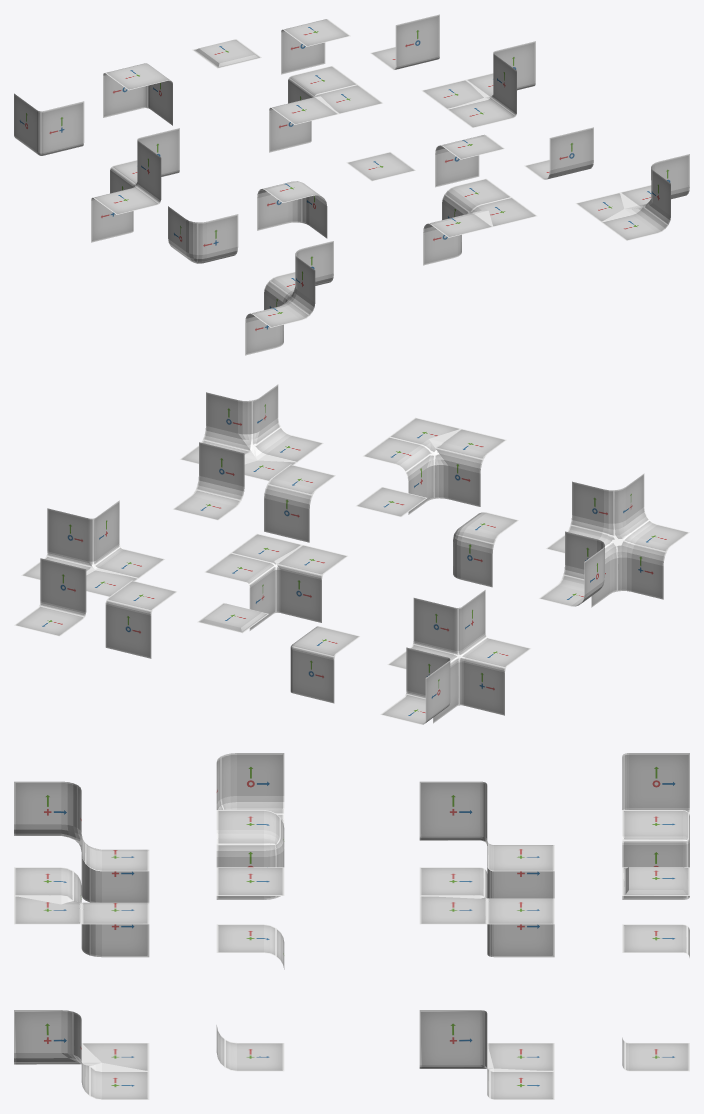
File: Blocks.fbx
3 renders of one model, top to bottom at view 1: azimuth 30°, elevation 25°; view 2: azimuth 150°, elevation 25°; view 3: azimuth 270°, elevation 25°, orthographic. The views are drawn at different scales.
Visible parts, largest first — view 1: Cross 1x1x1 M, SideToEdgePos 1x1x1 M, Cross 1x1x1, SideToEdgeNeg 1x1x1 M, SideToEdgeNeg 1x1x1, SideToEdgePos 1x1x1, Corner Neg 1x1x1 M, Corner 1x1x1 M, Corner 1x1x1, Corner Neg 1x1x1, Edge 1x1x1 M, Edge Neg 1x1x1 M (+4 smaller); view 2: Cross 1x1x1, Cross 1x1x1 M, SideToEdgeNeg 1x1x1, SideToEdgeNeg 1x1x1 M, SideToEdgePos 1x1x1, SideToEdgePos 1x1x1 M, Edge 1x1x1 M, Edge Neg 1x1x1 M, Edge Neg 1x1x1, Edge 1x1x1, Corner Neg 1x1x1 M, Corner 1x1x1 M (+4 smaller); view 3: SideToEdgeNeg 1x1x1 M, SideToEdgePos 1x1x1 M, Cross 1x1x1 M, SideToEdgeNeg 1x1x1, Cross 1x1x1, SideToEdgePos 1x1x1, Corner 1x1x1, Corner 1x1x1 M, Corner Neg 1x1x1, Corner Neg 1x1x1 M, Edge 1x1x1, Edge Neg 1x1x1 (+4 smaller).
Boxes of the visible parts, x1=… form: Cross 1x1x1 M: x1=91, y1=128, x2=179, y2=242; SideToEdgePos 1x1x1 M: x1=421, y1=41, x2=535, y2=127; Cross 1x1x1: x1=245, y1=241, x2=333, y2=355; SideToEdgeNeg 1x1x1 M: x1=269, y1=66, x2=382, y2=152; SideToEdgeNeg 1x1x1: x1=423, y1=178, x2=537, y2=265; SideToEdgePos 1x1x1: x1=575, y1=154, x2=689, y2=240; Corner Neg 1x1x1 M: x1=14, y1=93, x2=84, y2=155; Corner 1x1x1 M: x1=103, y1=63, x2=172, y2=125; Corner 1x1x1: x1=257, y1=181, x2=327, y2=238; Corner Neg 1x1x1: x1=168, y1=206, x2=238, y2=263; Edge 1x1x1 M: x1=281, y1=19, x2=350, y2=74; Edge Neg 1x1x1 M: x1=370, y1=14, x2=439, y2=69; Cross 1x1x1: x1=546, y1=473, x2=689, y2=607; Cross 1x1x1 M: x1=387, y1=590, x2=530, y2=723; SideToEdgeNeg 1x1x1: x1=363, y1=417, x2=506, y2=514; SideToEdgeNeg 1x1x1 M: x1=204, y1=533, x2=347, y2=630; SideToEdgePos 1x1x1: x1=180, y1=384, x2=323, y2=481; SideToEdgePos 1x1x1 M: x1=21, y1=500, x2=164, y2=596; Edge 1x1x1 M: x1=105, y1=580, x2=176, y2=658; Edge Neg 1x1x1 M: x1=14, y1=558, x2=86, y2=636; Edge Neg 1x1x1: x1=173, y1=442, x2=244, y2=520; Edge 1x1x1: x1=264, y1=464, x2=335, y2=542; Corner Neg 1x1x1 M: x1=380, y1=647, x2=450, y2=724; Corner 1x1x1 M: x1=290, y1=626, x2=359, y2=703; SideToEdgeNeg 1x1x1 M: x1=419, y1=867, x2=554, y2=957; SideToEdgePos 1x1x1 M: x1=419, y1=1010, x2=554, y2=1099; Cross 1x1x1 M: x1=419, y1=781, x2=554, y2=898; SideToEdgeNeg 1x1x1: x1=14, y1=867, x2=149, y2=957; Cross 1x1x1: x1=14, y1=781, x2=149, y2=902; SideToEdgePos 1x1x1: x1=14, y1=1010, x2=149, y2=1099; Corner 1x1x1: x1=216, y1=810, x2=284, y2=899; Corner 1x1x1 M: x1=622, y1=810, x2=689, y2=899; Corner Neg 1x1x1: x1=216, y1=753, x2=284, y2=826; Corner Neg 1x1x1 M: x1=622, y1=753, x2=689, y2=814; Edge 1x1x1: x1=216, y1=924, x2=284, y2=969; Edge Neg 1x1x1: x1=216, y1=1025, x2=284, y2=1071.
Size of the model in its own units: 500 by 102 by 500.
